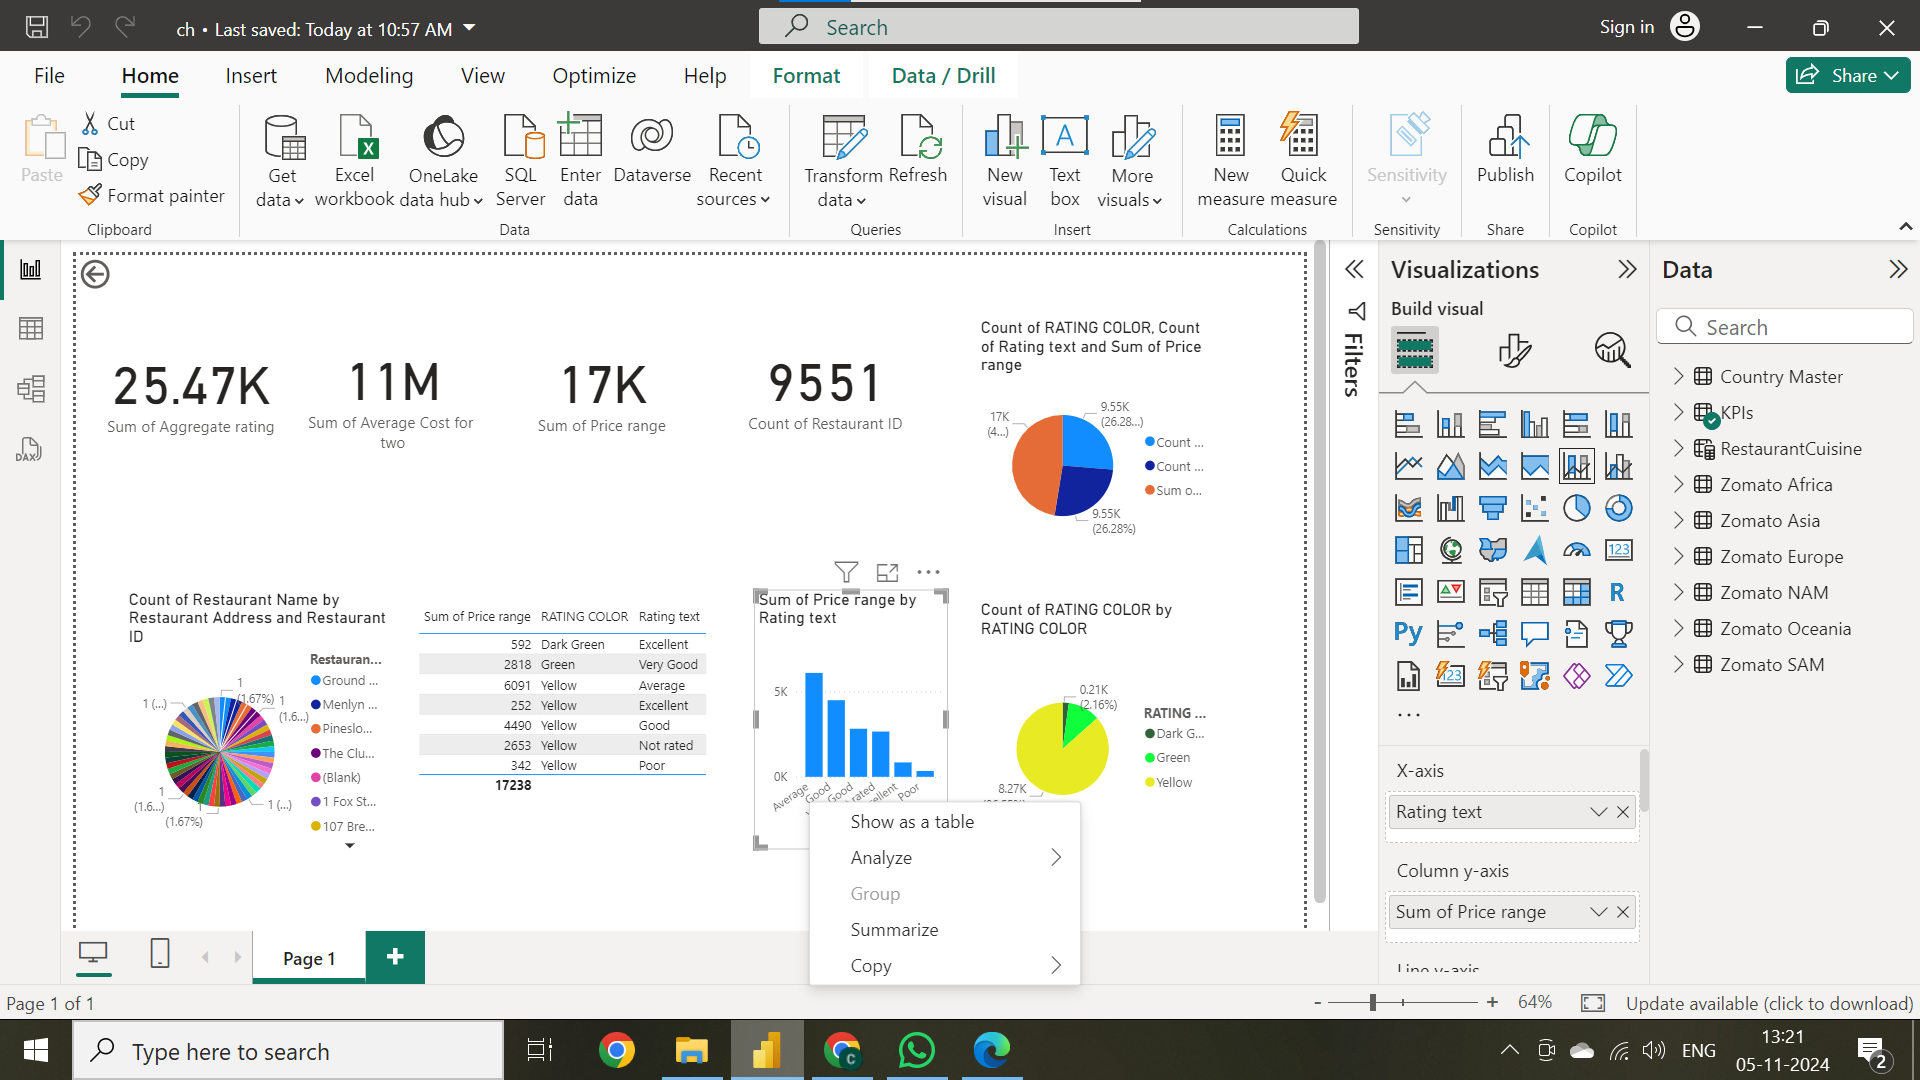

Layout of this report page (visuals, bound fields, positions):
{"tool":"powerbi","page":{"name":"Page 1","canvas":[1280,720],"ordinal":0},"visuals":[{"type":"pieChart","fields":{"Category":["Zomato Africa.Restaurant Address"],"Series":["Zomato Africa.Restaurant ID"],"Y":["Zomato Africa.Restaurant Name"]},"box":[50.1,348.8,280,280],"z":0},{"type":"tableEx","fields":{"Values":["KPIs.Price range","KPIs.RATING COLOR","KPIs.Rating text"]},"box":[351.9,361.3,316,270.6],"z":1000},{"type":"actionButton","box":[0,0,100,40],"z":2000},{"type":"card","fields":{"Values":["KPIs.Aggregate rating"]},"box":[10.9,43.8,217.4,192.4],"z":3000},{"type":"card","fields":{"Values":["KPIs.Average Cost for two"]},"box":[214.3,37.5,231.5,195.5],"z":4000},{"type":"card","fields":{"Values":["KPIs.Price range"]},"box":[428.6,42.2,239.3,192.4],"z":5000},{"type":"pieChart","fields":{"Y":["KPIs.RATING COLOR","KPIs.Rating text","KPIs.Price range"]},"box":[938,66,253,249],"z":6000},{"type":"card","fields":{"Values":["KPIs.Restaurant ID"]},"box":[653.8,40.7,255,192.4],"z":7000},{"type":"pieChart","fields":{"Y":["KPIs.RATING COLOR"],"Series":["KPIs.RATING COLOR"]},"box":[938,360,253,271],"z":8000},{"type":"lineStackedColumnComboChart","fields":{"Y":["KPIs.Price range"],"Category":["KPIs.Rating text"]},"box":[707,349,202,271],"z":9000}]}

Visuals, with their boxes on the page's 1280x720 design canvas (x1, y1, x2, y2). These are canvas units, not pixel positions in the 1920x1080 screenshot, which may show the page scaled, cropped or inside an application window:
pieChart - Zomato Africa.Restaurant Address x Zomato Africa.Restaurant ID: {"x1": 50, "y1": 349, "x2": 330, "y2": 629}
tableEx - KPIs.Price range x KPIs.RATING COLOR: {"x1": 352, "y1": 361, "x2": 668, "y2": 632}
actionButton: {"x1": 0, "y1": 0, "x2": 100, "y2": 40}
card - KPIs.Aggregate rating: {"x1": 11, "y1": 44, "x2": 228, "y2": 236}
card - KPIs.Average Cost for two: {"x1": 214, "y1": 38, "x2": 446, "y2": 233}
card - KPIs.Price range: {"x1": 429, "y1": 42, "x2": 668, "y2": 235}
pieChart - KPIs.RATING COLOR x KPIs.Rating text: {"x1": 938, "y1": 66, "x2": 1191, "y2": 315}
card - KPIs.Restaurant ID: {"x1": 654, "y1": 41, "x2": 909, "y2": 233}
pieChart - KPIs.RATING COLOR x KPIs.RATING COLOR: {"x1": 938, "y1": 360, "x2": 1191, "y2": 631}
lineStackedColumnComboChart - KPIs.Price range x KPIs.Rating text: {"x1": 707, "y1": 349, "x2": 909, "y2": 620}
